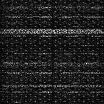lte: (1, 28, 104, 34), (1, 84, 104, 88)
